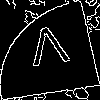V: (25, 24, 74, 76)
